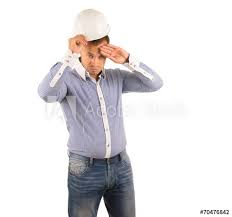Person_wearing_helmet: (76, 9, 113, 59)
